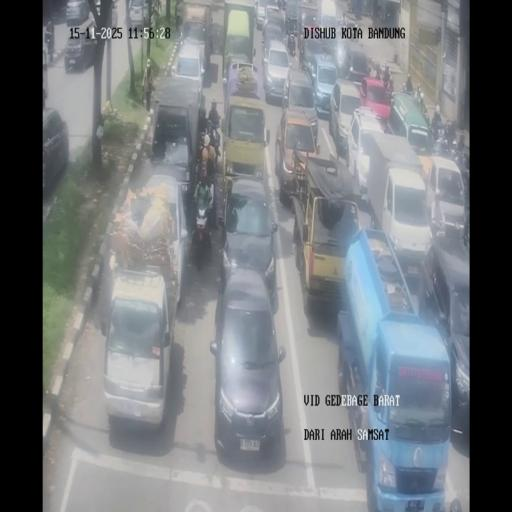3: (337, 231, 450, 505), (290, 152, 361, 312), (361, 133, 429, 266), (150, 78, 203, 210), (284, 0, 299, 35)
car: (211, 270, 285, 466), (101, 267, 177, 431), (218, 177, 279, 301), (388, 91, 434, 155), (329, 77, 363, 153), (42, 108, 68, 196), (224, 57, 260, 116), (305, 55, 338, 118), (172, 41, 206, 101), (261, 40, 292, 104), (64, 18, 100, 73), (344, 45, 372, 84), (299, 13, 322, 58), (262, 8, 286, 42), (66, 0, 90, 26), (125, 0, 149, 25), (320, 14, 340, 37), (50, 0, 68, 24), (254, 0, 267, 28), (94, 0, 101, 15)
truck: (190, 198, 213, 268), (451, 142, 469, 198), (208, 122, 221, 162), (196, 149, 210, 183), (443, 116, 456, 146), (431, 118, 445, 144), (44, 36, 54, 66), (416, 91, 428, 115), (197, 128, 208, 154), (420, 110, 431, 134), (401, 82, 416, 98), (287, 30, 296, 56), (175, 3, 183, 31), (382, 74, 393, 93), (456, 132, 466, 152), (375, 4, 384, 22), (374, 61, 382, 80), (152, 0, 160, 17), (276, 0, 285, 10)
